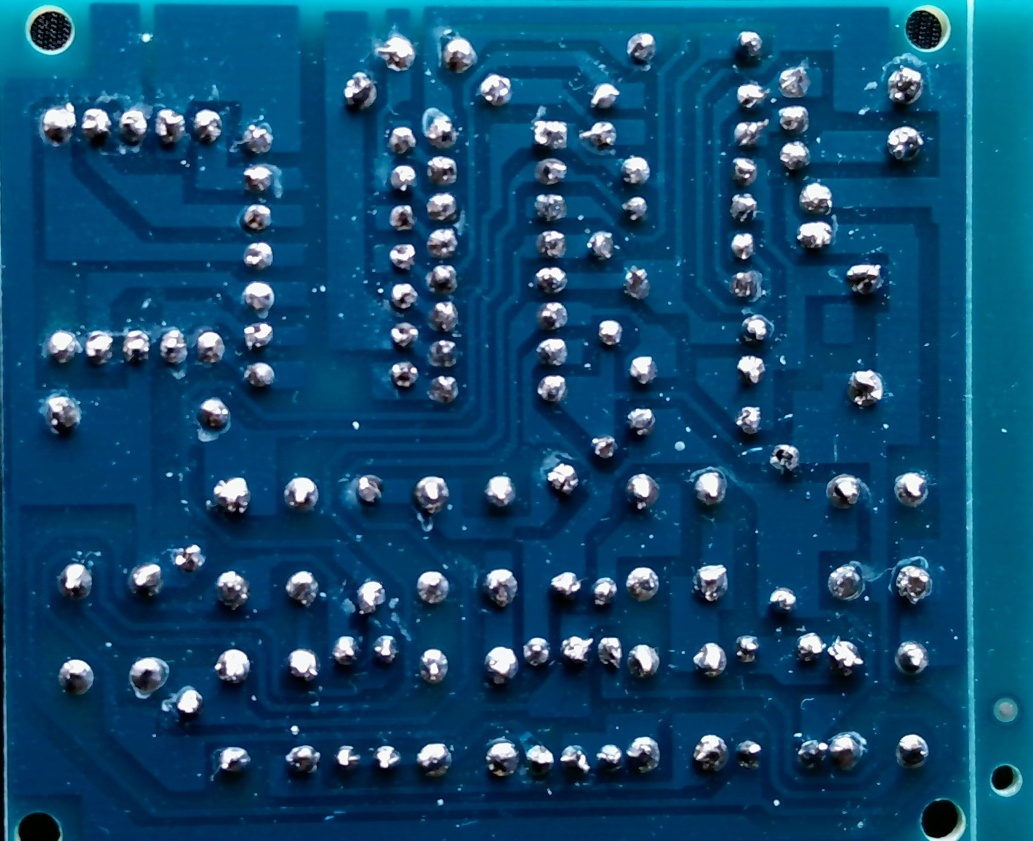?: (211, 477, 250, 516), (692, 564, 731, 601), (530, 114, 570, 150), (848, 262, 885, 299), (156, 109, 189, 147), (828, 564, 863, 598), (428, 154, 460, 189), (479, 73, 513, 105), (345, 73, 376, 108), (537, 265, 570, 297), (354, 475, 385, 507), (738, 81, 768, 114), (171, 544, 207, 571), (736, 29, 763, 65), (598, 631, 622, 670), (626, 408, 657, 438), (427, 266, 457, 296), (429, 375, 460, 403), (241, 324, 275, 349), (744, 311, 774, 339), (430, 339, 459, 366), (770, 588, 799, 615), (389, 283, 419, 309), (799, 737, 827, 764), (539, 375, 568, 401), (598, 741, 624, 769)
drag: (46, 394, 85, 437), (484, 567, 519, 606), (627, 643, 661, 681), (895, 471, 930, 505), (695, 733, 728, 769), (131, 561, 164, 596), (424, 115, 458, 147), (286, 744, 321, 774), (731, 188, 760, 224), (734, 354, 767, 385), (623, 266, 651, 302), (175, 687, 207, 718), (220, 746, 253, 776), (118, 110, 147, 144), (779, 68, 809, 99), (796, 631, 825, 661), (242, 202, 272, 230), (733, 156, 760, 186), (374, 744, 404, 770), (736, 636, 761, 664), (594, 434, 618, 459)
little: (897, 563, 936, 605), (885, 66, 925, 105), (849, 367, 886, 405), (629, 737, 664, 775), (418, 741, 453, 776), (896, 639, 928, 676), (727, 269, 763, 301), (535, 154, 567, 188), (534, 190, 570, 220), (777, 140, 811, 170), (778, 103, 809, 134), (86, 330, 113, 365), (771, 444, 801, 475), (561, 743, 590, 774), (123, 329, 149, 363), (388, 318, 419, 346), (538, 302, 569, 330), (589, 576, 617, 606), (736, 405, 764, 434), (392, 360, 420, 388), (389, 242, 414, 270)
norm: (56, 658, 95, 697), (624, 472, 661, 513), (217, 646, 252, 686), (58, 564, 93, 603), (128, 656, 167, 690), (215, 569, 249, 608), (485, 739, 519, 777), (486, 644, 516, 686), (444, 37, 478, 74), (895, 735, 935, 766), (284, 477, 320, 511), (694, 469, 728, 505), (690, 642, 725, 676), (43, 106, 74, 144), (419, 646, 449, 685), (830, 730, 863, 765), (287, 569, 319, 605), (418, 570, 450, 606), (415, 476, 448, 510), (159, 327, 187, 366), (46, 331, 78, 364), (626, 567, 659, 599), (830, 476, 864, 507), (625, 31, 657, 63), (328, 634, 361, 665), (427, 303, 461, 333), (241, 283, 277, 311), (426, 225, 458, 256), (539, 337, 571, 368), (287, 648, 318, 680), (198, 398, 231, 428), (486, 475, 516, 508), (244, 361, 279, 389), (587, 231, 616, 264), (196, 329, 224, 363), (194, 111, 223, 143), (386, 204, 417, 233), (734, 735, 763, 766), (562, 634, 593, 663), (623, 155, 651, 187), (729, 233, 758, 263), (525, 743, 554, 773), (429, 192, 461, 219), (334, 740, 363, 769), (523, 637, 551, 666), (389, 125, 415, 155), (373, 636, 400, 664), (245, 165, 273, 191), (389, 165, 417, 190), (598, 319, 624, 345)
others: (26, 3, 78, 55), (917, 795, 970, 841), (904, 5, 951, 53), (987, 761, 1025, 798)
tip: (828, 637, 865, 678), (380, 36, 416, 70), (81, 107, 114, 144), (546, 460, 581, 494), (580, 121, 620, 150), (798, 180, 833, 213), (358, 579, 387, 616), (797, 221, 834, 249), (535, 229, 567, 260), (735, 118, 767, 149), (245, 240, 276, 270), (590, 79, 619, 111), (241, 124, 272, 153), (629, 355, 657, 387), (619, 196, 647, 221)
